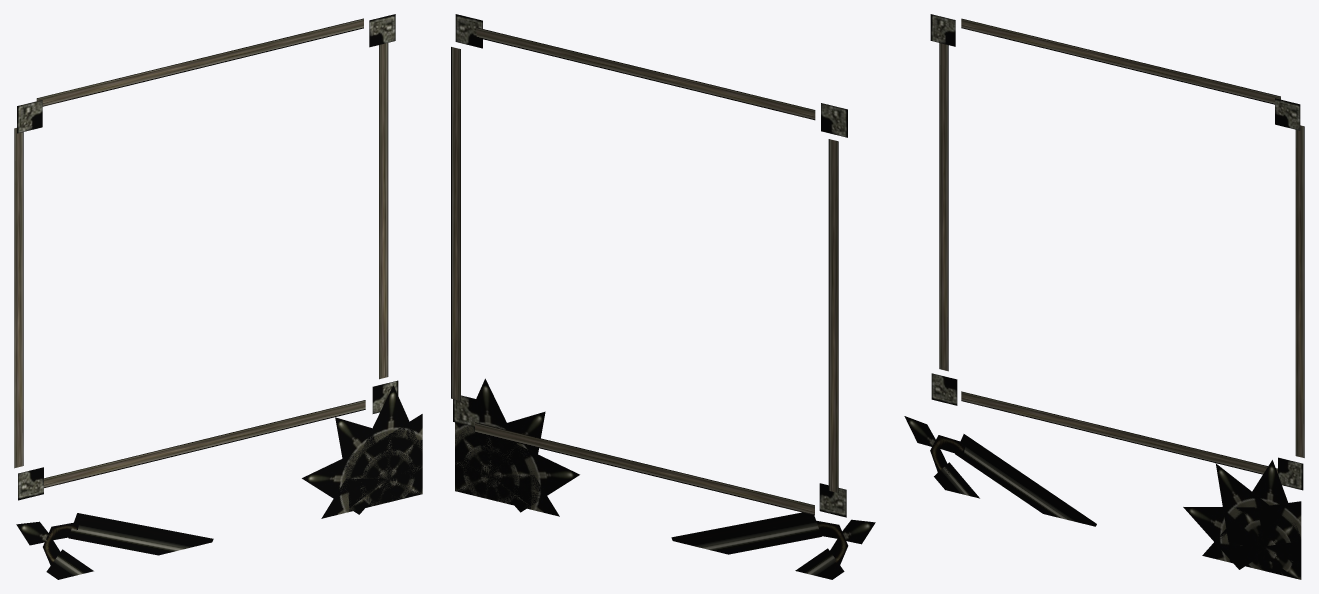
The model's file is gui_map_window.fbx.
3 renders of one model, left to right at view 1: azimuth 30°, elevation 25°; view 2: azimuth 150°, elevation 25°; view 3: azimuth 330°, elevation 25°, orthographic. The views are drawn at different scales.
Visible parts, largest first — view 1: base_frame, wheel, compass; view 2: base_frame, wheel, compass; view 3: base_frame, wheel, compass.
Part boxes in pixels (bbox=[...]): base_frame: bbox=[14, 14, 398, 500]; wheel: bbox=[302, 385, 422, 518]; compass: bbox=[16, 513, 213, 579]; base_frame: bbox=[451, 14, 847, 517]; wheel: bbox=[455, 378, 579, 516]; compass: bbox=[671, 512, 875, 579]; base_frame: bbox=[930, 14, 1304, 490]; wheel: bbox=[1183, 460, 1301, 579]; compass: bbox=[904, 416, 1096, 526].
Size of the model in its own units: 327 by 369 by 26.46.
Materials: 1 (1 with a texture image).
